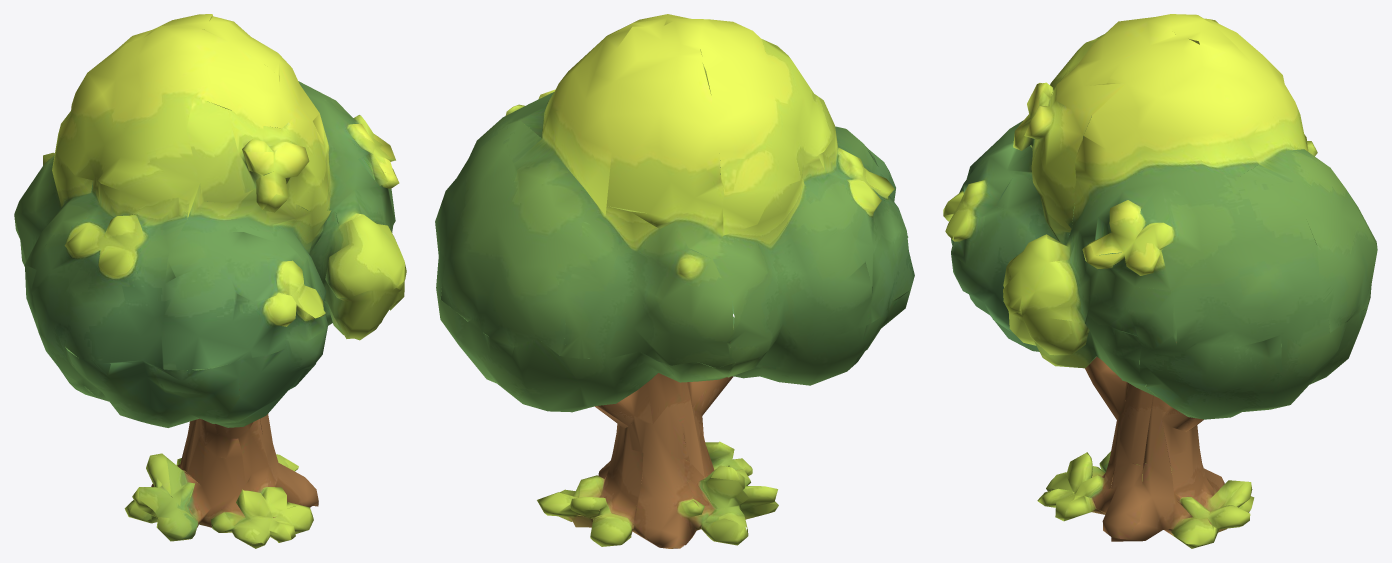
File: M-6_02_tree_b.glb
3 views of the same model, side by side, from view 1: azimuth 30°, elevation 25°; view 2: azimuth 150°, elevation 25°; view 3: azimuth 270°, elevation 25° (orthographic). The views are drawn at different scales.
Parts seen in each view (by area): view 1: tree_b; view 2: tree_b; view 3: tree_b.
Boxes of the visible parts, x1=… form: tree_b: x1=14, y1=14, x2=406, y2=548; tree_b: x1=435, y1=14, x2=914, y2=548; tree_b: x1=943, y1=14, x2=1377, y2=548.
Bounding box in the file's own units: 5.22 × 6.51 × 5.38.
Materials: 1 (1 with a texture image).
